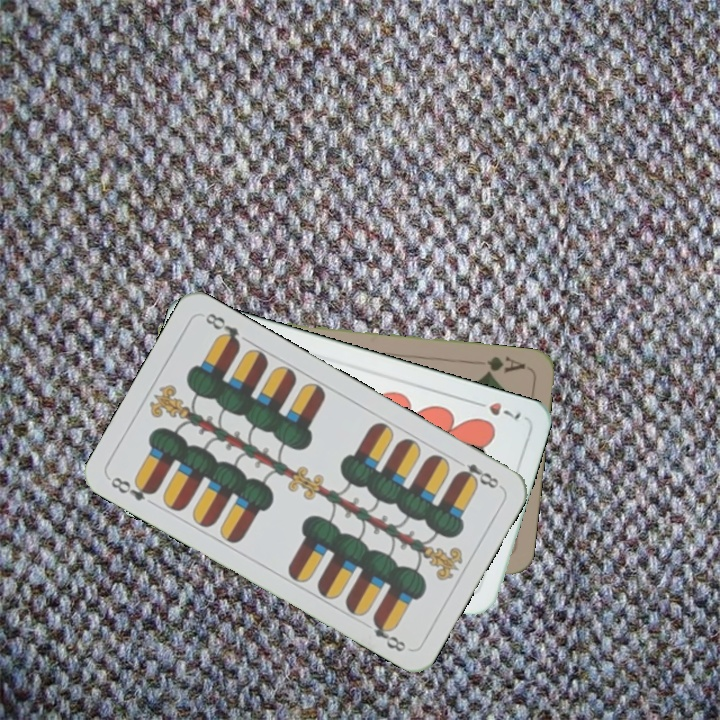E8: (452, 454, 504, 492), (106, 472, 159, 504)
GA: (481, 352, 528, 378)
H7: (468, 396, 524, 423)
